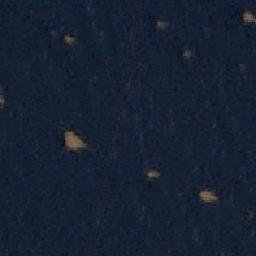debris: (61, 132, 86, 151), (197, 188, 215, 203), (242, 10, 255, 25), (154, 21, 172, 30), (181, 48, 192, 59), (148, 168, 158, 178), (1, 95, 8, 108), (64, 35, 73, 44)
